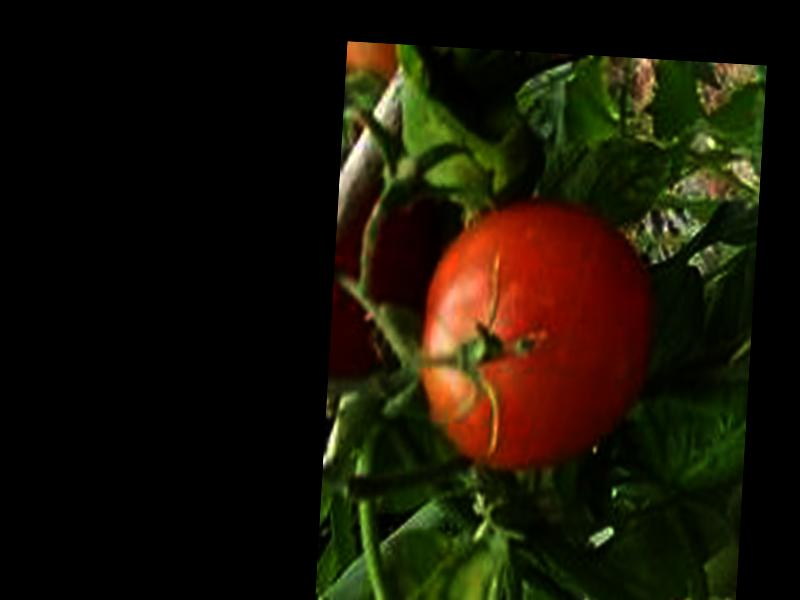Tomato: (413, 197, 653, 475)
